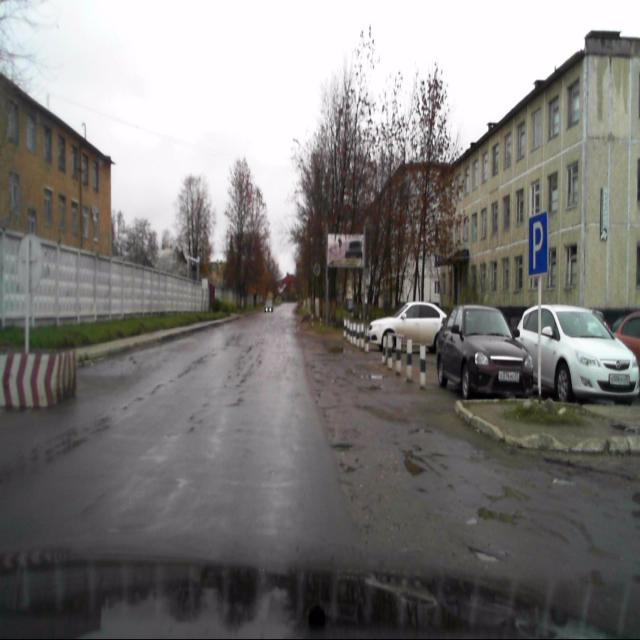object: (537, 274, 542, 404)
road sign: (528, 211, 548, 276)
